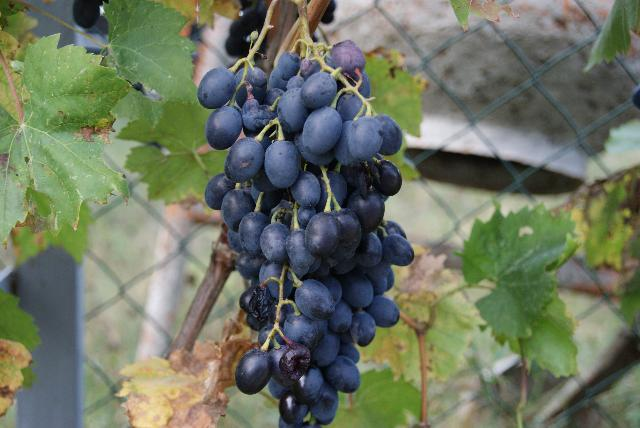grapes: (199, 34, 414, 428)
